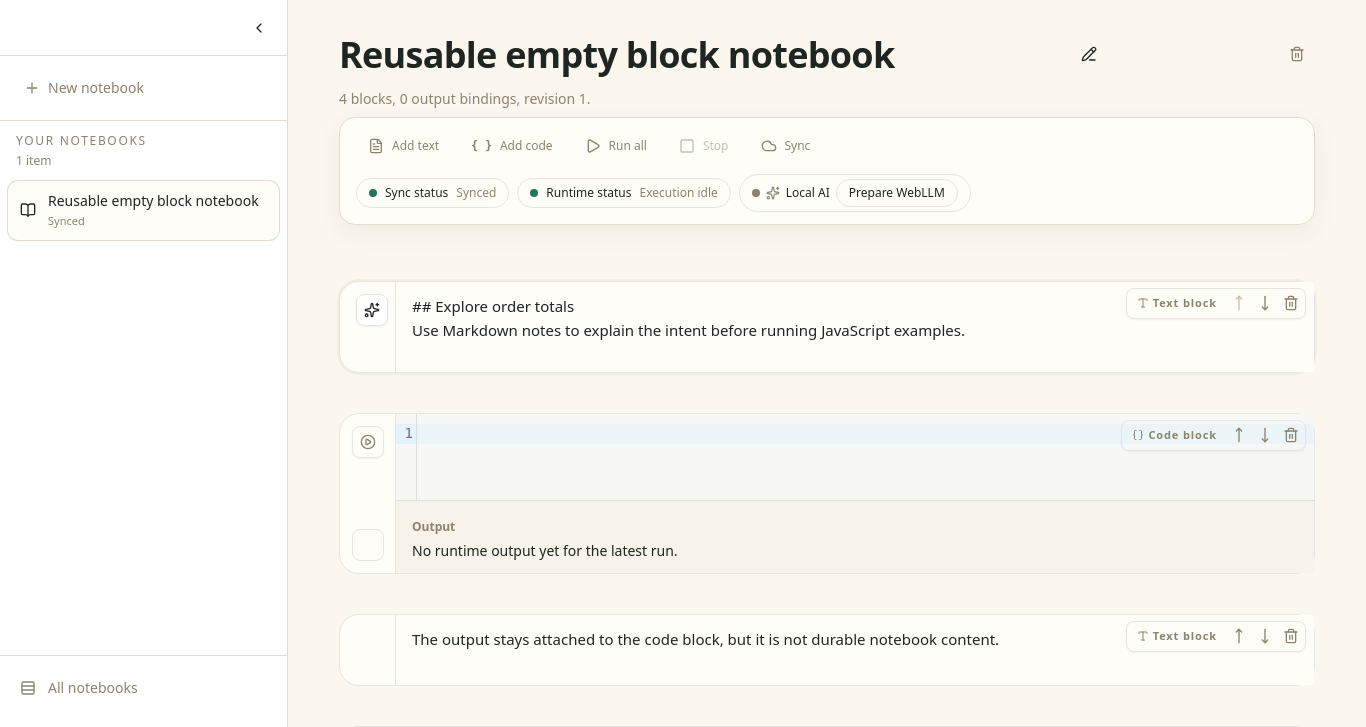
Test: NotebookEditorPage › reuses the next empty code block for inserted AI code
Click the button named "Generate code from blk_intro": (372, 310) [356,294,388,326]
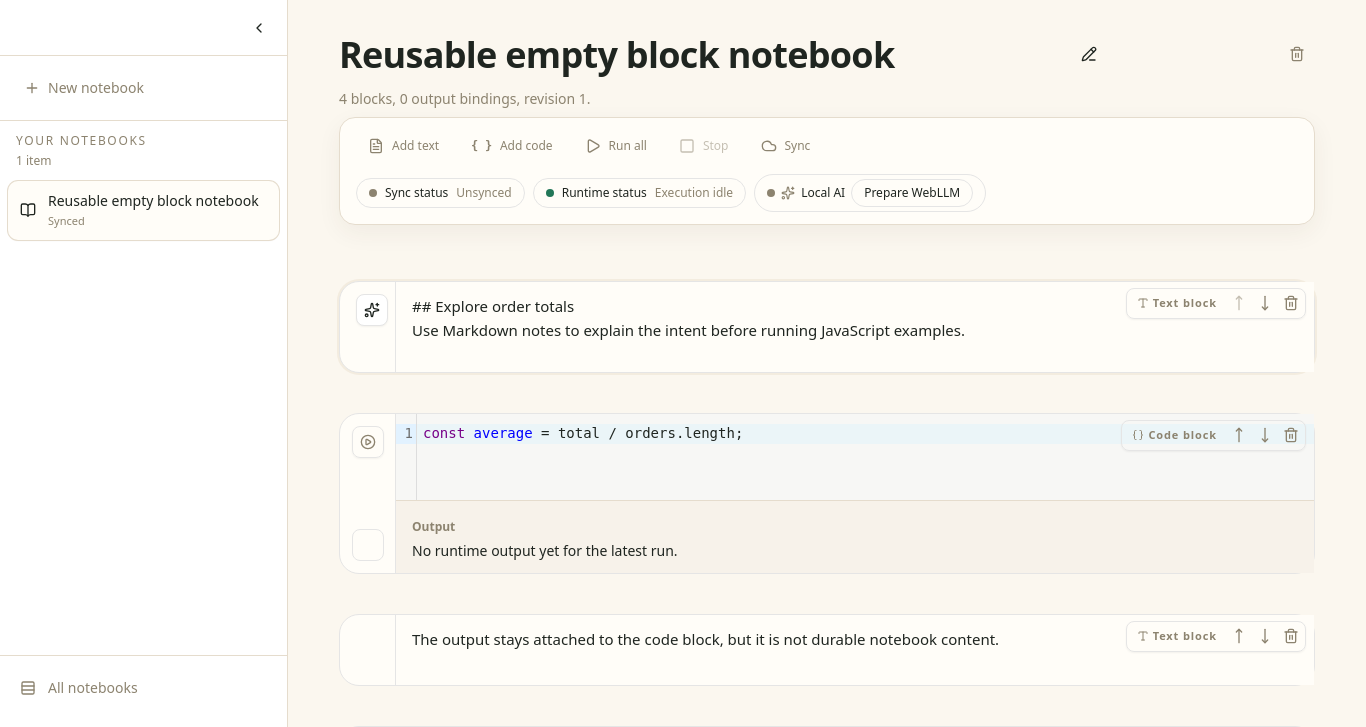
Check: the element named "Run blk_prepare_data" is shown, box [339,413,1315,574]
Check: the field labelled "const average = total / orders.length;" is shown, box [417,424,1314,444]
